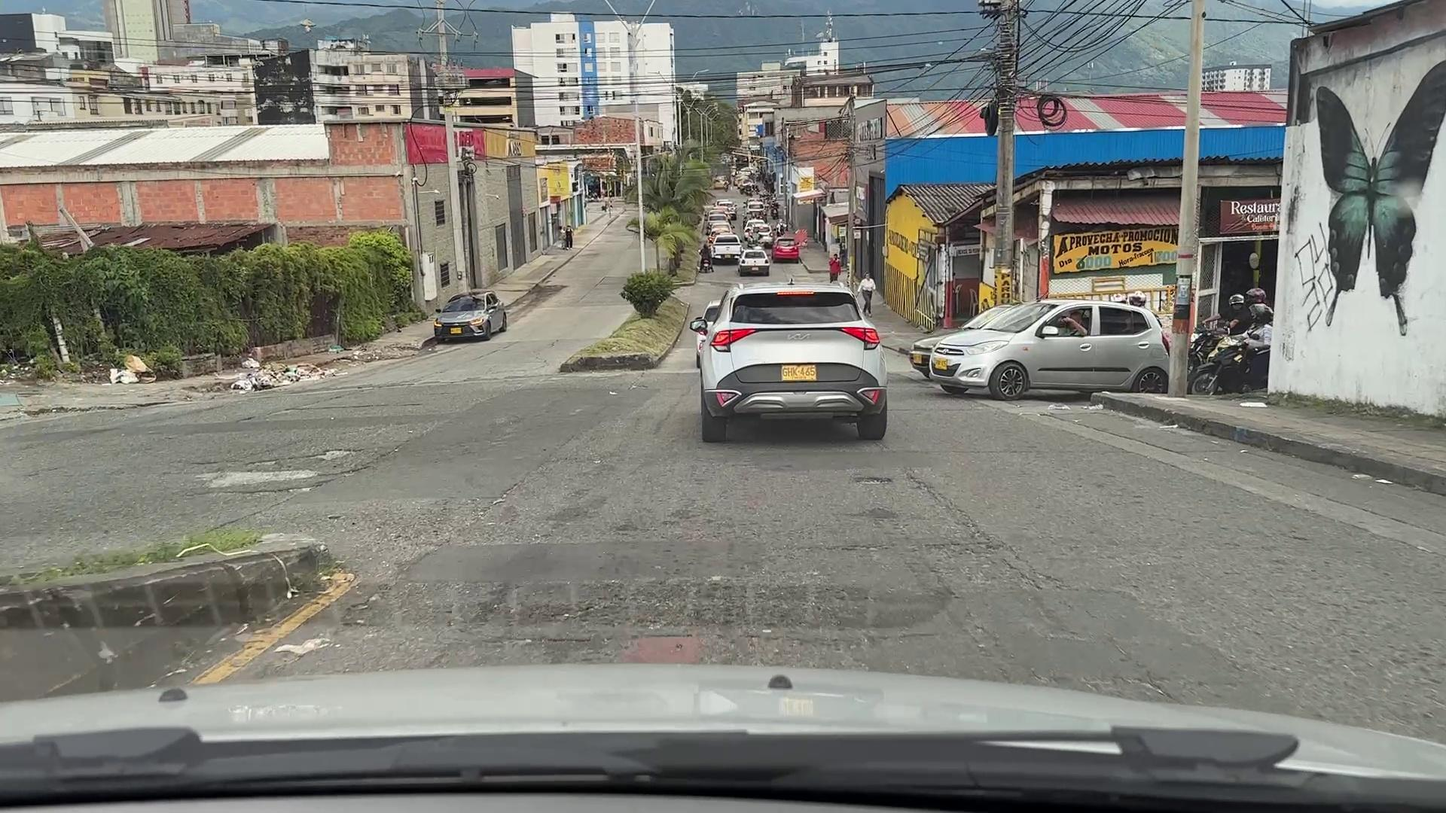bache: (194, 469, 318, 489), (246, 449, 362, 467), (854, 477, 892, 485)
grieta: (907, 474, 1040, 586)
